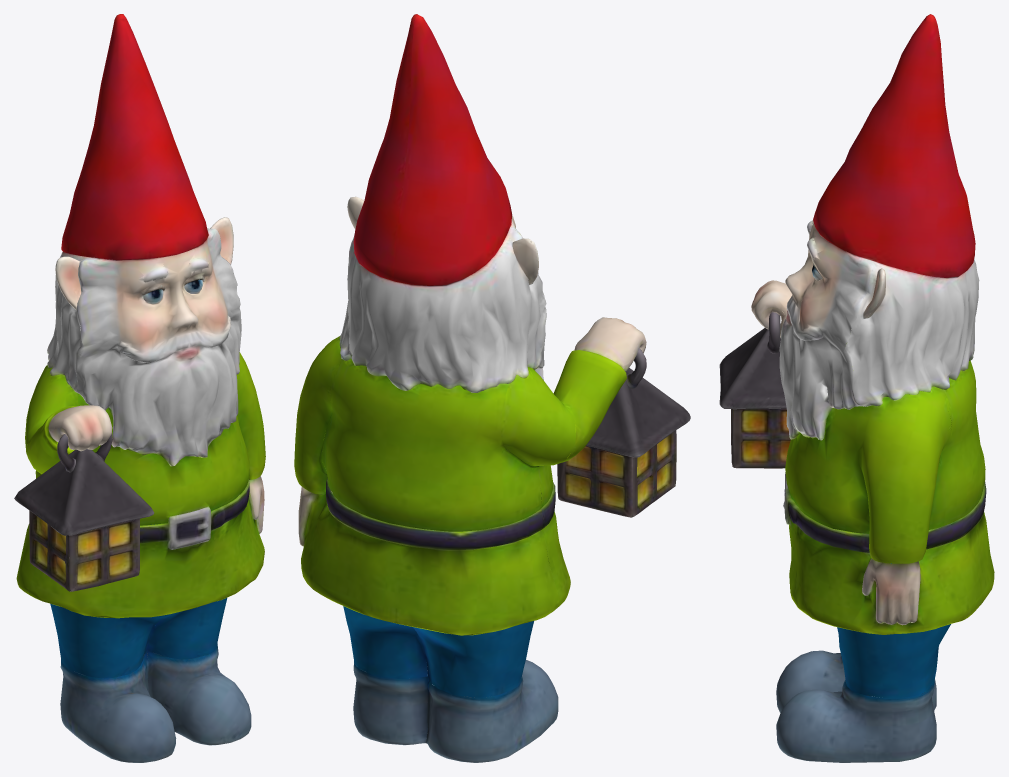
The model's file is ph_garden_gnome.glb.
3 renders of one model, left to right at view 1: azimuth 30°, elevation 25°; view 2: azimuth 150°, elevation 25°; view 3: azimuth 270°, elevation 25°, orthographic. The views are drawn at different scales.
Visible parts, largest first — view 1: garden_gnome; view 2: garden_gnome; view 3: garden_gnome.
Boxes of the visible parts, <box> form: garden_gnome: <box>14,14,265,762</box>; garden_gnome: <box>294,14,690,762</box>; garden_gnome: <box>719,14,994,762</box>.
Size of the model in its own units: 0.258 by 0.5991 by 0.2098.
Materials: 1 (1 with a texture image).
